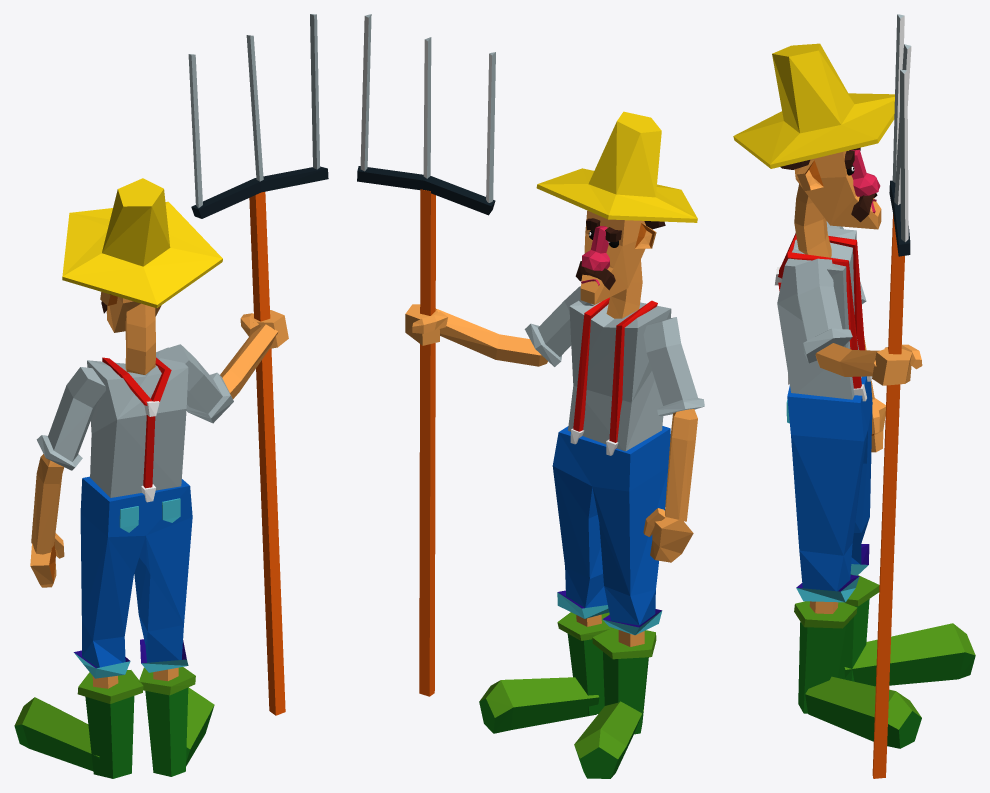
File: petani_caping.glb
The picture shows the model from 3 angles, left to right: view 1: azimuth 30°, elevation 25°; view 2: azimuth 150°, elevation 25°; view 3: azimuth 270°, elevation 25°; orthographic projection. The views are drawn at different scales.
Visible parts, largest first — view 1: group325805732, group1652406783, group136211580, group531453205, group2143328547, group1762380710, group200871120, group640478274, group231912182, group702117413, group1017099937, group96341730 (+10 smaller); view 2: group325805732, group136211580, group1652406783, group531453205, group1983999098, group200871120, group2143328547, group640478274, group1411287227, group702117413, group1762380710, group767499517 (+11 smaller); view 3: group325805732, group1652406783, group531453205, group136211580, group640478274, group1983999098, group1762380710, group231912182, group1411287227, group2143328547, group96341730, group767499517 (+10 smaller).
Boxes of the visible parts, x1,y1,x2,y2 form: group325805732: (73,476,192,678); group1652406783: (62,178,222,308); group136211580: (87,347,188,497); group531453205: (249,192,285,715); group2143328547: (77,670,143,778); group1762380710: (138,667,195,776); group200871120: (36,367,105,470); group640478274: (14,697,99,770); group231912182: (158,344,233,423); group702117413: (31,454,64,554); group1017099937: (191,166,328,218); group96341730: (125,303,155,374); group325805732: (552,426,670,635); group136211580: (568,300,671,451); group1652406783: (536,111,697,222); group531453205: (419,189,435,696); group1983999098: (479,677,599,733); group200871120: (643,317,704,416); group2143328547: (592,628,656,734); group640478274: (574,701,643,778); group1411287227: (580,210,645,304); group702117413: (665,409,697,521); group1762380710: (557,612,613,715); group767499517: (436,309,547,366); group325805732: (787,376,872,602); group1652406783: (733,43,894,168); group531453205: (872,214,904,778); group136211580: (777,228,861,399); group640478274: (844,623,975,686); group1983999098: (805,676,921,748); group1762380710: (794,601,857,713); group231912182: (795,258,852,363); group1411287227: (794,150,881,229); group2143328547: (837,575,879,681); group96341730: (794,184,831,257); group767499517: (815,343,879,376).
Bounding box in the file's own units: 1.32 × 2.74 × 0.8125.
